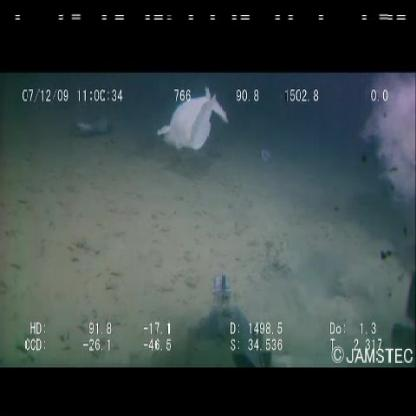Rác: (155, 84, 233, 164)
